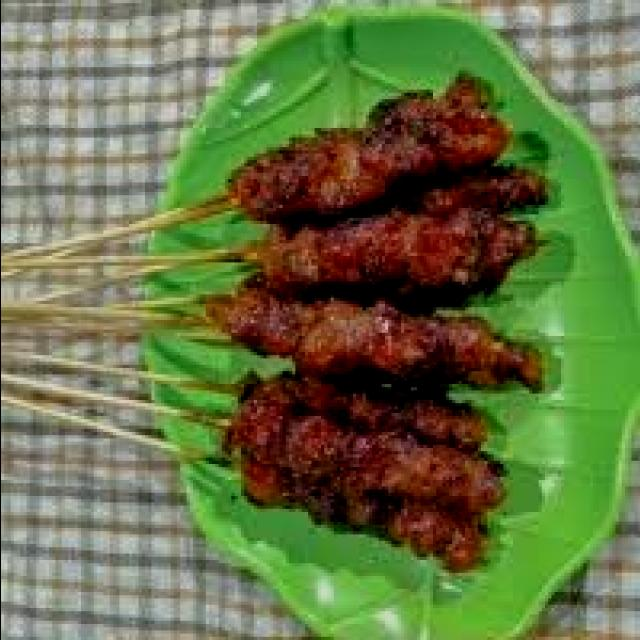sate: (0, 74, 544, 576)
